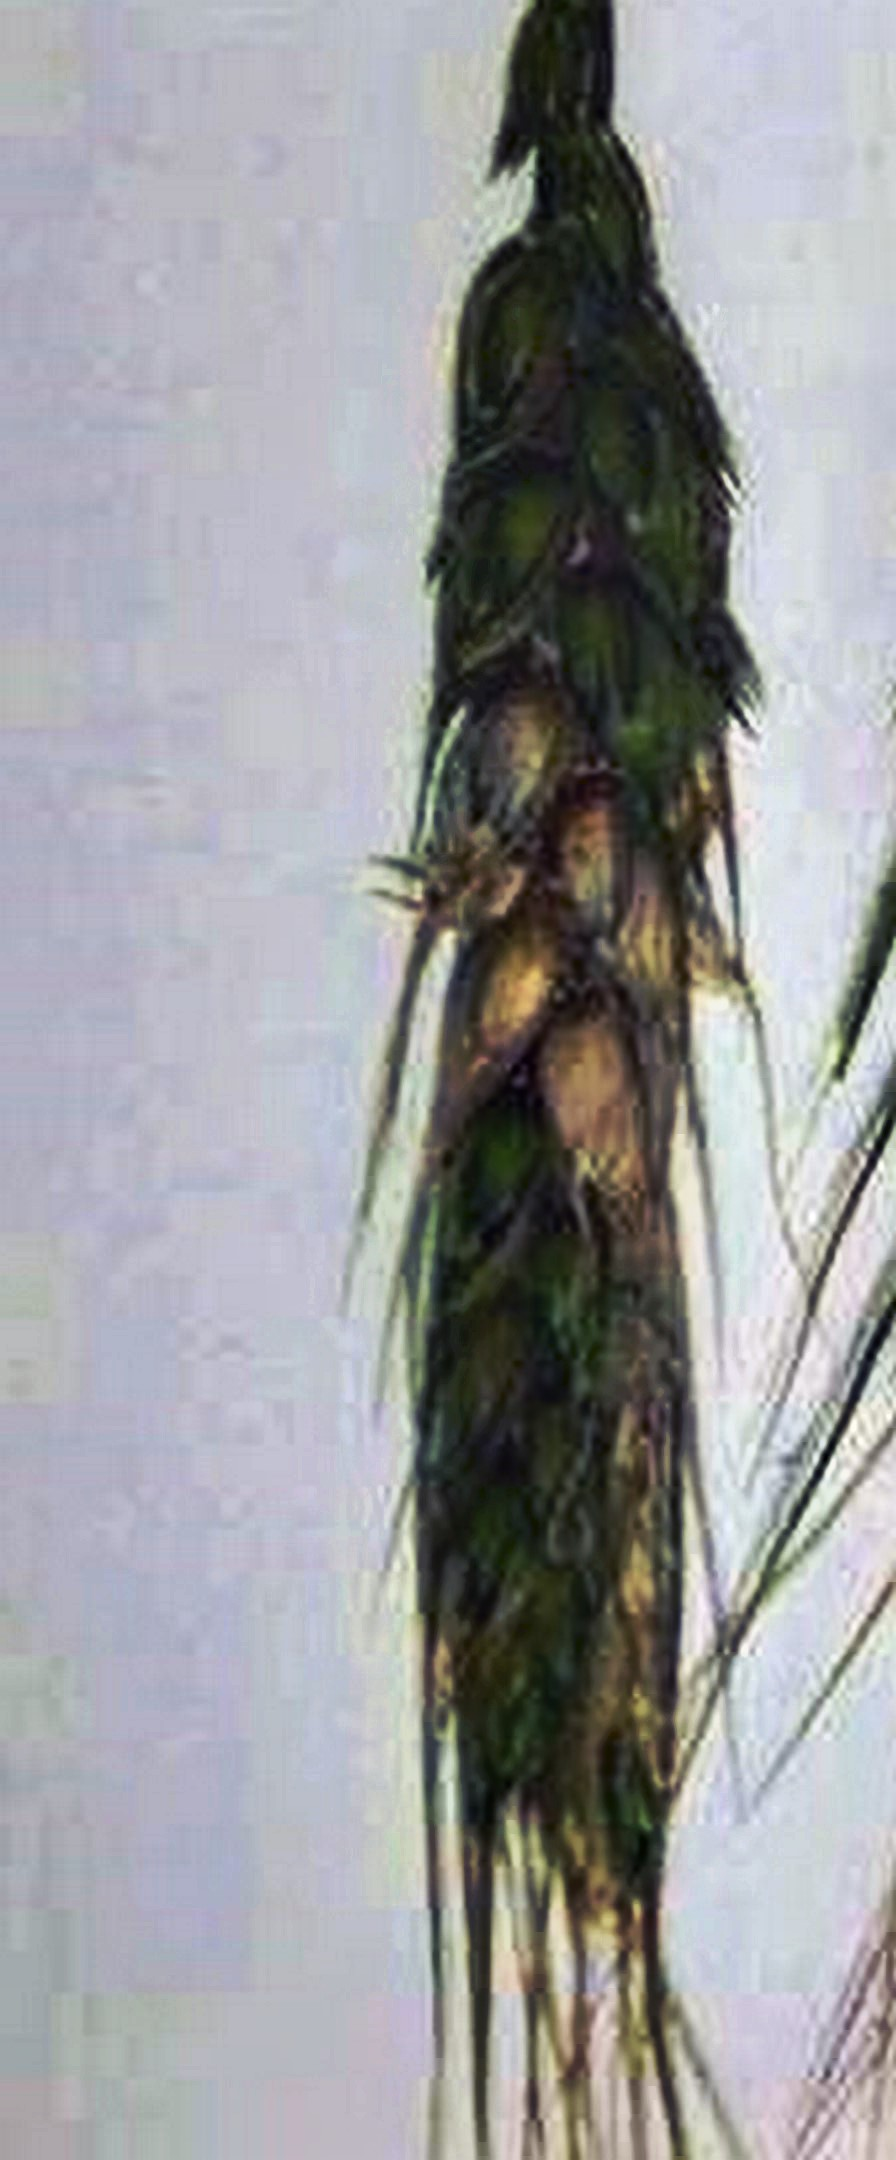Wheat scab: (289, 152, 838, 1938)
